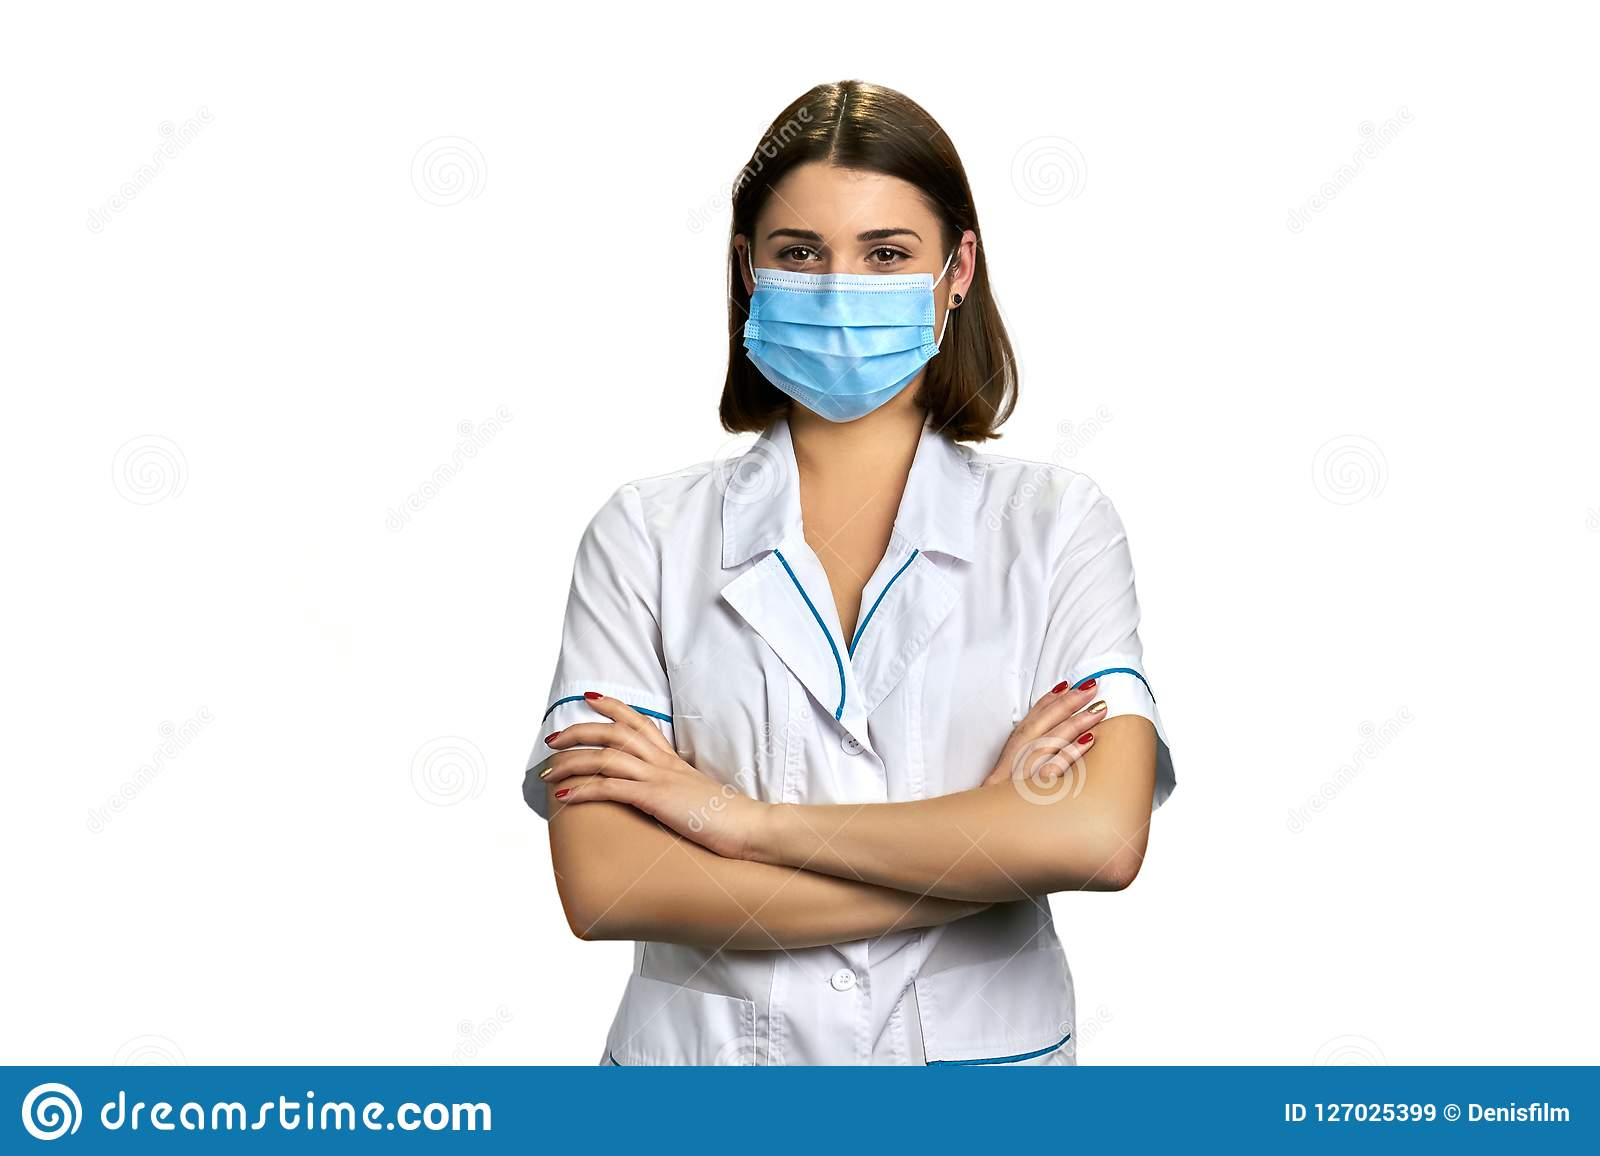mask: (737, 269, 945, 427)
